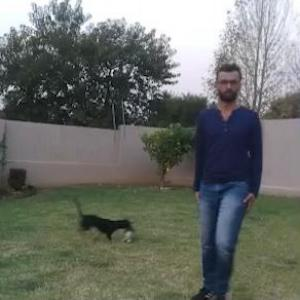follow: (190, 61, 262, 299)
